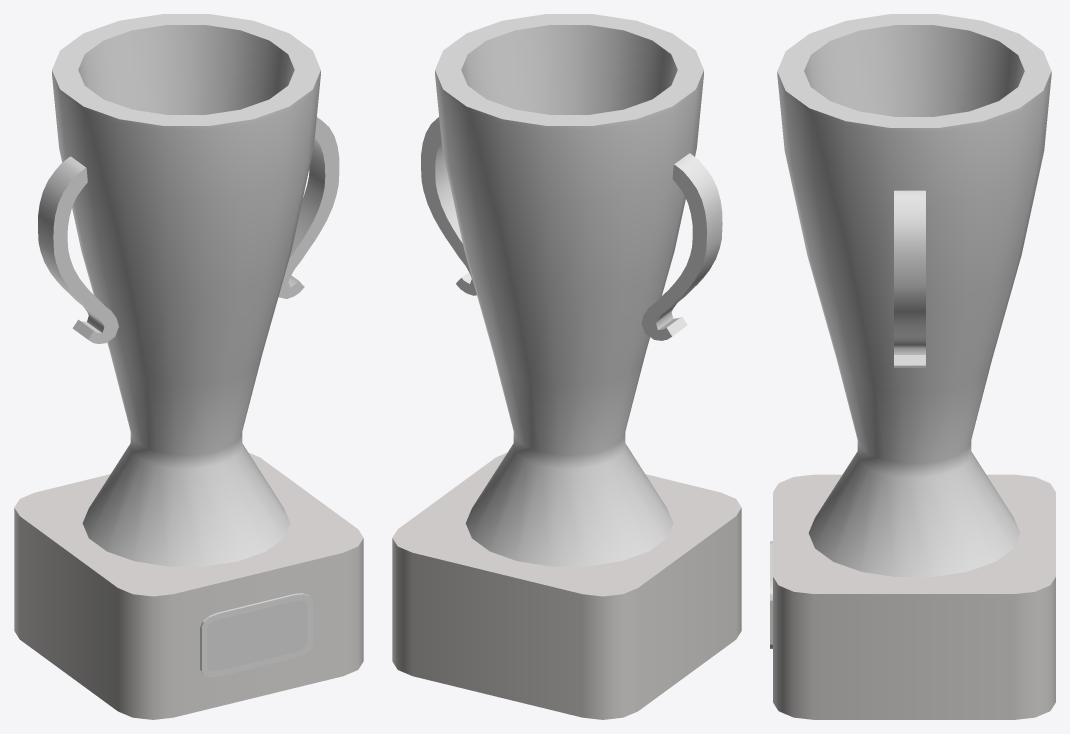
Rendered from Cup Silver.fbx.
The picture shows the model from 3 angles, left to right: view 1: azimuth 30°, elevation 25°; view 2: azimuth 150°, elevation 25°; view 3: azimuth 270°, elevation 25°; orthographic projection.
Parts seen in each view (by area): view 1: Silver Cup; view 2: Silver Cup; view 3: Silver Cup.
Part boxes in pixels (box(x1,y1,x2,y2)): Silver Cup: box(14, 14, 363, 719); Silver Cup: box(392, 14, 741, 719); Silver Cup: box(770, 14, 1055, 719).
Bounding box in the file's own units: 42.5 × 81.88 × 36.08.
